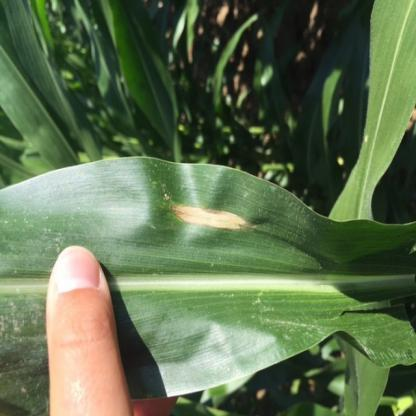Corn leaf blight: (118, 155, 416, 362)
